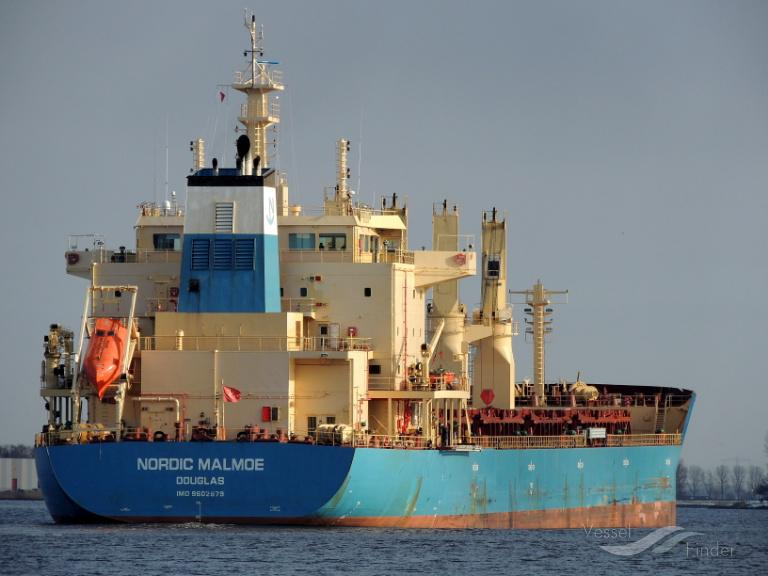OCR: (132, 447, 270, 504)
